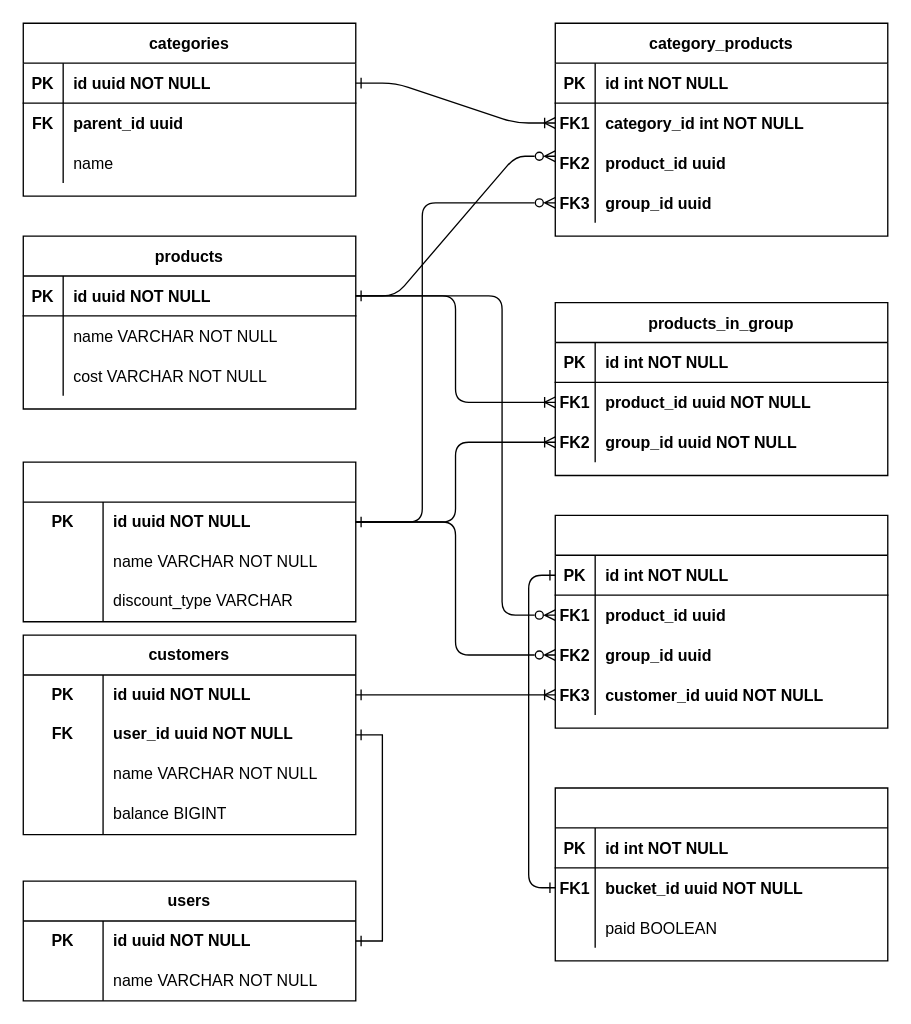
Some shapes in this 911 by 1024 pixel diagram are drawn without their labels. The shapes that lost their labels are listed below. From the top down, each one's box as (x1, y1, x2, y2) in pixels, then its label:
(22, 461, 356, 622): product_groups
(554, 514, 888, 728): customer_buckets
(554, 787, 888, 961): orders
